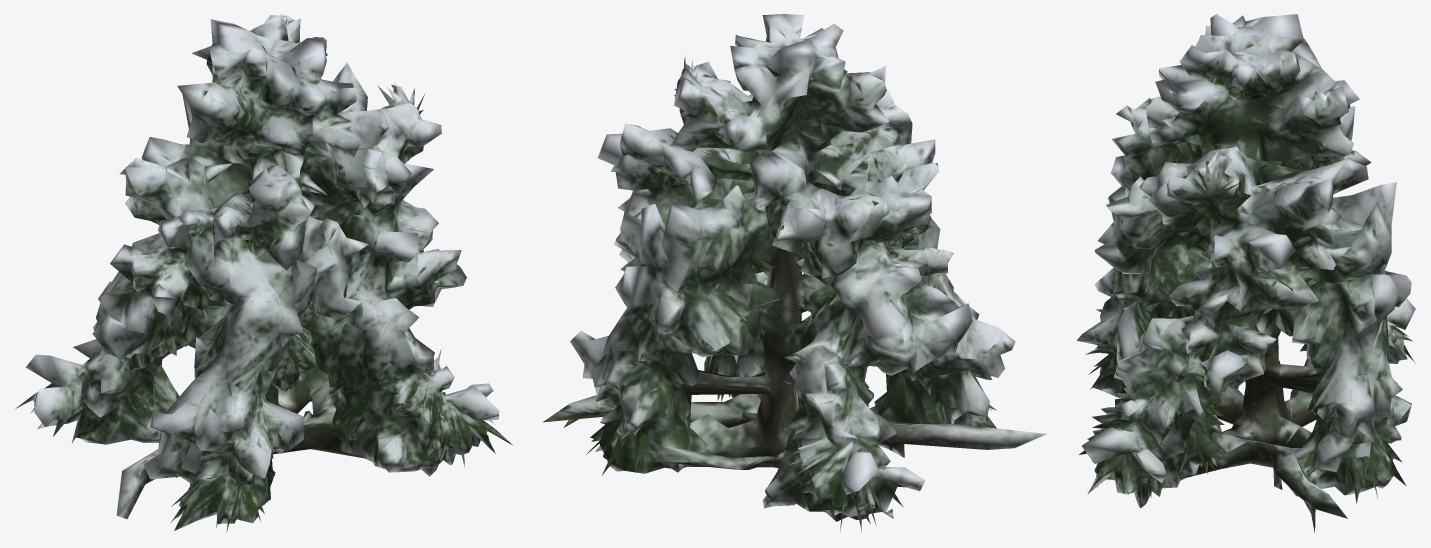
The model's file is pine_snow.glb.
3 renders of one model, left to right at view 1: azimuth 30°, elevation 25°; view 2: azimuth 150°, elevation 25°; view 3: azimuth 270°, elevation 25°, orthographic. The views are drawn at different scales.
Size of the model in its own units: 1.83 by 1.86 by 1.37.
1 material, 1 textured.
